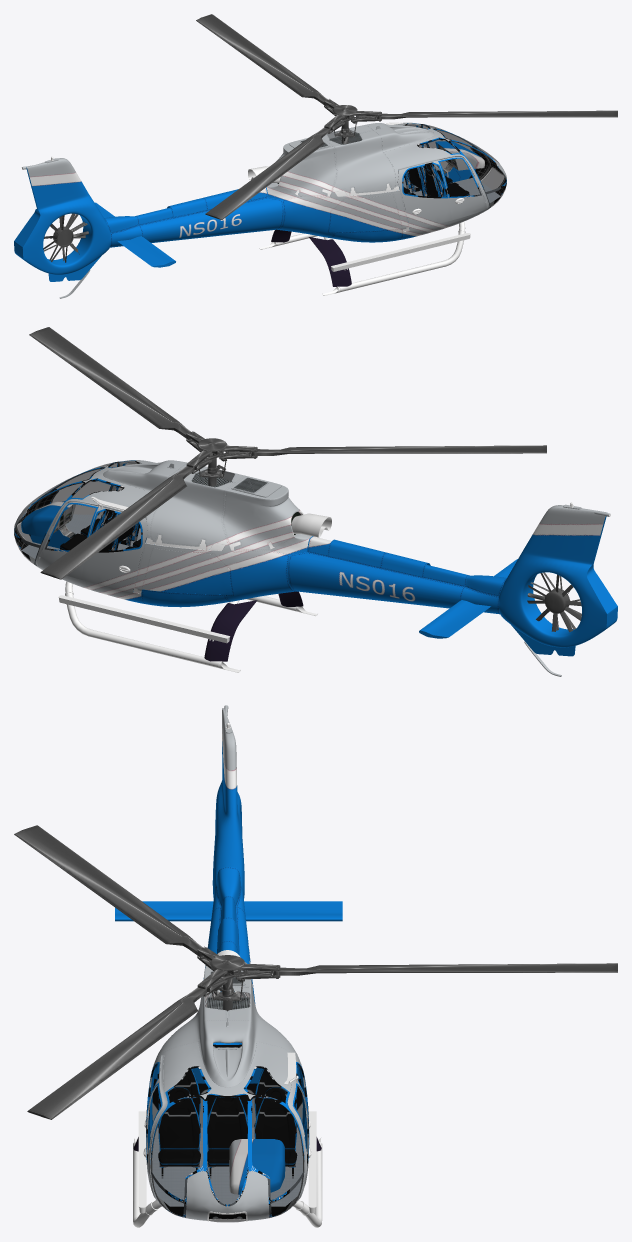
Rendered from helicopter.glb.
3 views of the same model, one above another, from view 1: azimuth 30°, elevation 25°; view 2: azimuth 150°, elevation 25°; view 3: azimuth 270°, elevation 25° (orthographic). The views are drawn at different scales.
Visible parts, largest first — view 1: helicopter.Shape_body_0_9, helicopter.Shape_elise_0_11, helicopter.Shape_glass_0_10, helicopter.Shape_black_0_7, helicopter.Shape_interior_0_8, helicopter.Shape_rotor_0_12; view 2: helicopter.Shape_body_0_9, helicopter.Shape_elise_0_11, helicopter.Shape_glass_0_10, helicopter.Shape_black_0_7, helicopter.Shape_rotor_0_12, helicopter.Shape_interior_0_8; view 3: helicopter.Shape_body_0_9, helicopter.Shape_glass_0_10, helicopter.Shape_elise_0_11, helicopter.Shape_interior_0_8, helicopter.Shape_black_0_7.
Boxes of the visible parts, x1=… form: helicopter.Shape_body_0_9: x1=14, y1=122, x2=506, y2=298; helicopter.Shape_elise_0_11: x1=196, y1=14, x2=617, y2=219; helicopter.Shape_glass_0_10: x1=403, y1=123, x2=506, y2=206; helicopter.Shape_black_0_7: x1=22, y1=122, x2=504, y2=295; helicopter.Shape_interior_0_8: x1=403, y1=163, x2=469, y2=196; helicopter.Shape_rotor_0_12: x1=43, y1=213, x2=88, y2=262; helicopter.Shape_body_0_9: x1=14, y1=460, x2=617, y2=676; helicopter.Shape_elise_0_11: x1=29, y1=327, x2=546, y2=579; helicopter.Shape_glass_0_10: x1=14, y1=461, x2=140, y2=563; helicopter.Shape_black_0_7: x1=17, y1=496, x2=610, y2=672; helicopter.Shape_rotor_0_12: x1=527, y1=572, x2=581, y2=632; helicopter.Shape_interior_0_8: x1=60, y1=510, x2=140, y2=551; helicopter.Shape_body_0_9: x1=115, y1=705, x2=342, y2=1220; helicopter.Shape_glass_0_10: x1=146, y1=1063, x2=308, y2=1222; helicopter.Shape_elise_0_11: x1=14, y1=825, x2=617, y2=1119; helicopter.Shape_interior_0_8: x1=158, y1=1069, x2=297, y2=1178; helicopter.Shape_black_0_7: x1=133, y1=723, x2=322, y2=1227.
Size of the model in its own units: 441 by 136 by 300.
6 materials, 5 textured.
